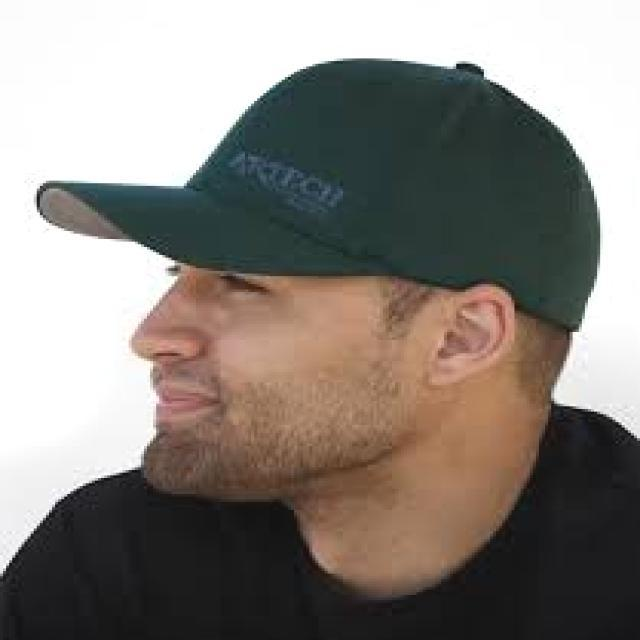cap: (10, 29, 640, 346)
